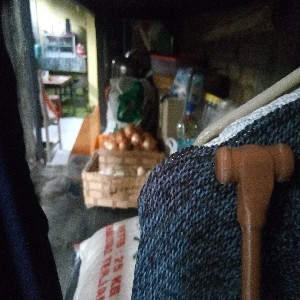palu: (214, 143, 295, 300)
